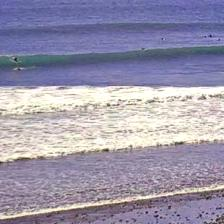surfer: (200, 35, 207, 38), (14, 58, 18, 62), (17, 68, 22, 71), (216, 39, 220, 42), (140, 48, 145, 50), (210, 34, 212, 38), (161, 38, 164, 40)
